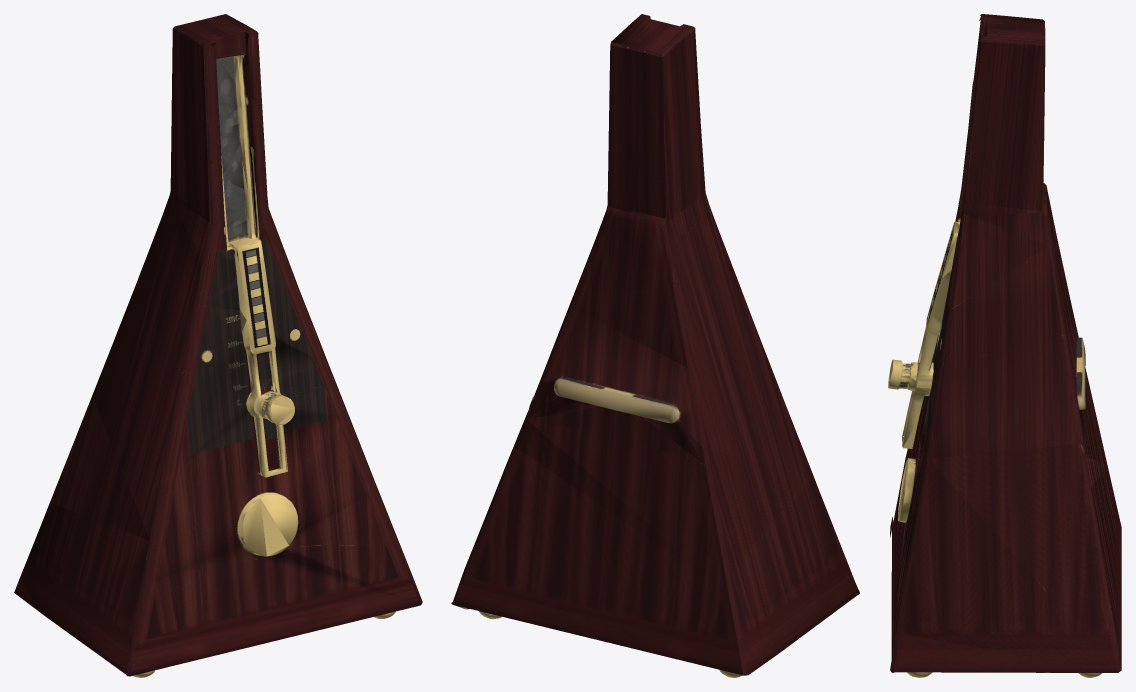
File: Metronome.fbx
The picture shows the model from 3 angles, left to right: view 1: azimuth 30°, elevation 25°; view 2: azimuth 150°, elevation 25°; view 3: azimuth 270°, elevation 25°; orthographic projection.
Visible parts, largest first — view 1: Mesh_0; view 2: Mesh_0; view 3: Mesh_0.
Part boxes in pixels (x1,y1,x2,y2): Mesh_0: (14,14,422,677); Mesh_0: (451,14,859,677); Mesh_0: (888,14,1121,677).
Bounding box in the file's own units: 101 × 190 × 68.16.
Materials: 1 (1 with a texture image).
